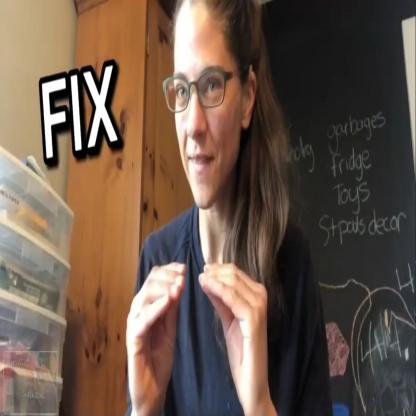Fix: (116, 245, 272, 416)
